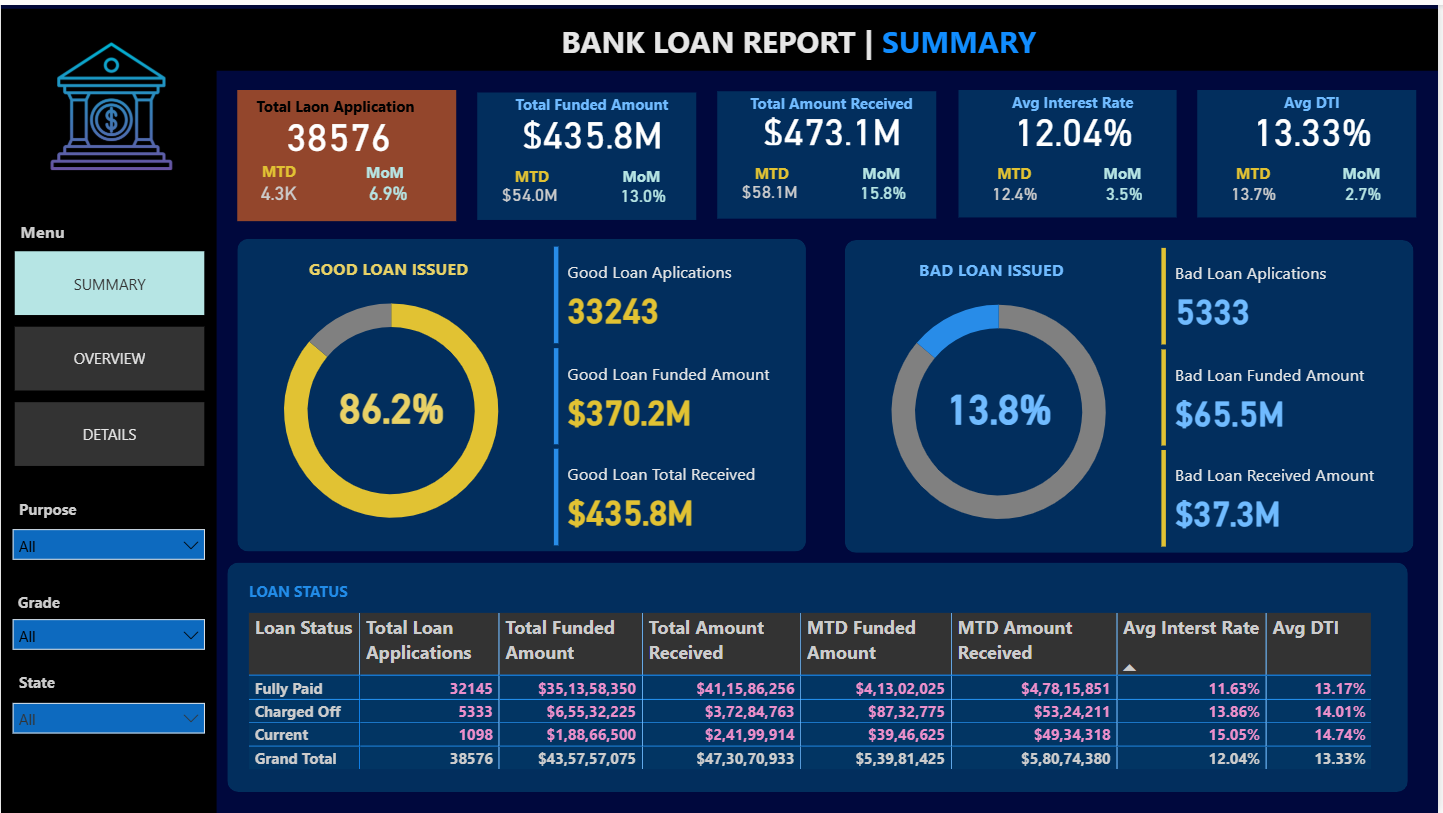

The page's visual inventory and layout, read from the dashboard file:
{"tool":"powerbi","page":{"name":"SUMMARY","canvas":[1280,720],"ordinal":0},"visuals":[{"type":"group","id":"g1","title":"Group 3","box":[423.6,75.1,195.4,117],"z":0,"group":"g14"},{"type":"shape","box":[210.1,76.3,195,117],"z":0,"group":"g16"},{"type":"shape","box":[851.9,76.3,194.2,113.5],"z":0,"group":"g8"},{"type":"shape","box":[1065.5,76.3,195,113.5],"z":0,"group":"g15"},{"type":"shape","box":[637.2,77.4,195,113.5],"z":0,"group":"g2"},{"type":"shape","box":[423.6,78.7,195,113.5],"z":0,"group":"g1"},{"type":"card","fields":{"Values":["Measure.MTD For Amount"]},"box":[653.2,150.6,62.7,34.4],"z":0,"group":"g4"},{"type":"card","fields":{"Values":["Measure.MTD For Int Rate"]},"box":[870.3,151.4,62.7,35.1],"z":0,"group":"g5"},{"type":"card","fields":{"Values":["Measure.MTD For DTI"]},"box":[1084.4,151.4,63,35.1],"z":0,"group":"g6"},{"type":"card","fields":{"Values":["bank_loan_db bank_loan.MTD For Applications"]},"box":[220,151.8,54.3,33.8],"z":0,"group":"g3"},{"type":"card","fields":{"Values":["Measure.MTD For Fund"]},"box":[439.7,153.4,63,35.1],"z":0,"group":"g7"},{"type":"card","fields":{"Values":["Measure.MoM For Application"]},"box":[317.6,154.2,53.1,29],"z":0,"group":"g9"},{"type":"card","fields":{"Values":["Measure.MoM For Amount"]},"box":[758.6,154.7,53.1,27.5],"z":0,"group":"g10"},{"type":"card","fields":{"Values":["Measure.MoM For Int Rate"]},"box":[973.3,155.1,53.1,28.1],"z":0,"group":"g11"},{"type":"card","fields":{"Values":["Measure.MoM For DTI"]},"box":[1187.4,155.1,53.3,28.1],"z":0,"group":"g12"},{"type":"card","fields":{"Values":["Measure.MoM For Fund"]},"box":[545.4,157.5,53.3,28.1],"z":0,"group":"g13"},{"type":"shape","box":[209.9,208.7,506.7,278.7],"z":0,"group":"g17"},{"type":"shape","box":[751.3,209.5,506.7,278.7],"z":0,"group":"g18"},{"type":"shape","box":[201.9,497,1051.6,204.4],"z":0},{"type":"shape","box":[0,3.6,1280,55.5],"z":1000},{"type":"group","id":"g2","title":"Group 3","box":[637.2,73.9,195.4,117],"z":1000,"group":"g14"},{"type":"group","id":"g3","title":"Group 1","box":[220,134.2,54.3,51.4],"z":1000,"group":"g16"},{"type":"textbox","box":[220,134.2,54.3,30.2],"z":1000,"group":"g3"},{"type":"textbox","box":[310.4,135.4,62.7,37.4],"z":1000,"group":"g9"},{"type":"textbox","box":[751.7,135.8,62.7,35.5],"z":1000,"group":"g10"},{"type":"textbox","box":[966.4,135.8,62.7,36.3],"z":1000,"group":"g11"},{"type":"textbox","box":[1180.5,135.8,63,36.3],"z":1000,"group":"g12"},{"type":"group","id":"g4","title":"Group 1","box":[653.2,136.1,64.3,48.9],"z":1000,"group":"g2"},{"type":"textbox","box":[656,136.1,61.5,28.7],"z":1000,"group":"g4"},{"type":"group","id":"g5","title":"Group 1","box":[870.3,136.2,62.7,50.3],"z":1000,"group":"g8"},{"type":"textbox","box":[870.6,136.2,61.5,29.2],"z":1000,"group":"g5"},{"type":"group","id":"g6","title":"Group 1","box":[1084.4,136.2,63,50.3],"z":1000,"group":"g15"},{"type":"textbox","box":[1084.4,136.2,61.8,29.2],"z":1000,"group":"g6"},{"type":"textbox","box":[538.5,138.2,63,36.3],"z":1000,"group":"g13"},{"type":"group","id":"g7","title":"Group 1","box":[439.7,138.6,64.5,49.9],"z":1000,"group":"g1"},{"type":"textbox","box":[442.5,138.6,61.8,29.2],"z":1000,"group":"g7"},{"type":"donutChart","fields":{"Y":["Measure.Good Loan Application %","Measure.Bad Loan Application %"]},"box":[215.9,231.6,263,248.5],"z":1000,"group":"g17"},{"type":"donutChart","fields":{"Y":["Measure.Good Loan Application %","Measure.Bad Loan Application %"]},"box":[757.3,232.4,263,248.5],"z":1000,"group":"g18"},{"type":"shape","box":[0,54.9,192,665.5],"z":2000},{"type":"group","id":"g8","title":"Group 3","box":[851.9,72.7,194.2,117],"z":2000,"group":"g14"},{"type":"group","id":"g9","title":"Group 2","box":[310.4,135.4,62.7,47.8],"z":2000,"group":"g16"},{"type":"group","id":"g10","title":"Group 2","box":[751.7,135.8,62.7,46.4],"z":2000,"group":"g2"},{"type":"group","id":"g11","title":"Group 2","box":[966.4,135.8,62.7,47.4],"z":2000,"group":"g8"},{"type":"group","id":"g12","title":"Group 2","box":[1180.5,135.8,63,47.4],"z":2000,"group":"g15"},{"type":"group","id":"g13","title":"Group 2","box":[538.5,138.2,63,47.4],"z":2000,"group":"g1"},{"type":"cardVisual","fields":{"Data":["Measure.Good Loan Aplications","Measure.Good Loan Funded Amount","Measure.Good Loan Received Amount"]},"box":[487.4,211.1,230.4,278.7],"z":2000,"group":"g17"},{"type":"cardVisual","fields":{"Data":["Measure.Bad Loan Aplications","Measure.Bad Loan Funded Amount","Measure.Bad Loan Received Amount"]},"box":[1028.8,211.9,230.4,278.7],"z":2000,"group":"g18"},{"type":"group","id":"g14","title":"Group 5","box":[210.1,72.7,1050.8,120.6],"z":3000},{"type":"textbox","box":[868.6,72.7,170.1,29.2],"z":3000,"group":"g8"},{"type":"group","id":"g15","title":"Group 3","box":[1065.5,72.7,195.4,117],"z":3000,"group":"g14"},{"type":"textbox","box":[1082.3,72.7,170.8,29.2],"z":3000,"group":"g15"},{"type":"textbox","box":[653.9,73.9,170.1,28.7],"z":3000,"group":"g2"},{"type":"textbox","box":[440.3,75.1,170.8,29.2],"z":3000,"group":"g1"},{"type":"textbox","box":[217.3,76.5,159.3,27.7],"z":3000,"group":"g16"},{"type":"textbox","box":[269,219.6,164.1,31.4],"z":3000,"group":"g17"},{"type":"textbox","box":[812.3,220.3,158.4,31.9],"z":3000,"group":"g18"},{"type":"group","id":"g16","title":"Group 4","box":[210.1,76.3,195,117],"z":4000,"group":"g14"},{"type":"card","fields":{"Values":["Measure.Avg Interst Rate"]},"box":[883.3,91.4,142.4,39.8],"z":4000,"group":"g8"},{"type":"card","fields":{"Values":["Measure.Avg DTI"]},"box":[1097,91.4,142.9,39.8],"z":4000,"group":"g15"},{"type":"card","fields":{"Values":["Measure.Total Amount Received"]},"box":[668.6,92.2,142.4,39],"z":4000,"group":"g2"},{"type":"card","fields":{"Values":["Measure.Total Funded Amount"]},"box":[455.1,93.8,142.9,39.8],"z":4000,"group":"g1"},{"type":"card","fields":{"Values":["bank_loan_db bank_loan.Total Loan Application"]},"box":[240.1,95.3,120.6,42.2],"z":4000,"group":"g16"},{"type":"group","id":"g17","title":"Group 6","box":[209.9,208.7,507.9,281.1],"z":4000},{"type":"card","fields":{"Values":["Measure.Good Loan Application %"]},"box":[286.2,316.9,121.4,80.5],"z":4000,"group":"g17"},{"type":"card","fields":{"Values":["Measure.Bad Loan Application %"]},"box":[827.6,317.7,121.4,80.5],"z":4000,"group":"g18"},{"type":"group","id":"g18","title":"Group 6","box":[751.3,209.5,507.9,281.1],"z":5000},{"type":"pivotTable","fields":{"Rows":["bank_loan.loan_status"],"Values":["Measure.Total Loan Application","Measure.Total Funded Amount","Measure.Total Amount Received","Measure.MTD For Fund","Measure.MTD For Amount","Measure.Avg Interst Rate","Measure.Avg DTI"]},"box":[215.9,536.6,1015.8,149.5],"z":6000},{"type":"textbox","box":[215.9,507.2,108.6,29.4],"z":7000},{"type":"slicer","fields":{"Values":["bank_loan.purpose"]},"box":[0,456.1,191.7,48.6],"z":8000},{"type":"slicer","fields":{"Values":["bank_loan.grade"]},"box":[0,536.6,191.7,48.6],"z":9000},{"type":"slicer","fields":{"Values":["bank_loan.address_state"]},"box":[0,610.7,191.7,48.6],"z":10000},{"type":"textbox","box":[11.4,435.5,71.6,37.1],"z":11000},{"type":"textbox","box":[10.2,517.5,72.8,29.4],"z":12000},{"type":"textbox","box":[11.5,588.5,58.8,35.8],"z":13000},{"type":"textbox","box":[470.5,8.4,479,45.8],"z":14000},{"type":"pageNavigator","box":[12.1,219.6,169,193],"z":15000},{"type":"image","box":[36.2,27.7,123.1,125.5],"z":16000},{"type":"textbox","box":[12.1,187,72.4,30.2],"z":17000}]}

Visuals, with their boxes in screenshot pixels (x1, y1, x2, y2), scaled from the page's 1280x720 canvas onto the 1443x813 screenshot:
"Group 3" group: 478 85 698 217
shape: 237 86 457 218
shape: 960 86 1179 214
shape: 1201 86 1421 214
shape: 718 87 938 216
shape: 478 89 697 217
card - Measure.MTD For Amount: 736 170 807 209
card - Measure.MTD For Int Rate: 981 171 1052 211
card - Measure.MTD For DTI: 1222 171 1294 211
card - bank_loan_db bank_loan.MTD For Applications: 248 171 309 210
card - Measure.MTD For Fund: 496 173 567 213
card - Measure.MoM For Application: 358 174 418 207
card - Measure.MoM For Amount: 855 175 915 206
card - Measure.MoM For Int Rate: 1097 175 1157 207
card - Measure.MoM For DTI: 1339 175 1399 207
card - Measure.MoM For Fund: 615 178 675 210
shape: 237 236 808 550
shape: 847 237 1418 551
shape: 228 561 1413 792
shape: 0 4 1442 67
"Group 3" group: 718 83 939 216
"Group 1" group: 248 152 309 210
textbox: 248 152 309 186
textbox: 350 153 421 195
textbox: 847 153 918 193
textbox: 1089 153 1160 194
textbox: 1331 153 1402 194
"Group 1" group: 736 154 809 209
textbox: 740 154 809 186
"Group 1" group: 981 154 1052 211
textbox: 981 154 1051 187
"Group 1" group: 1222 154 1294 211
textbox: 1222 154 1292 187
textbox: 607 156 678 197
"Group 1" group: 496 157 568 213
textbox: 499 157 569 189
donutChart - Measure.Good Loan Application % x Measure.Bad Loan Application %: 243 262 540 542
donutChart - Measure.Good Loan Application % x Measure.Bad Loan Application %: 854 262 1150 543
shape: 0 62 216 812
"Group 3" group: 960 82 1179 214
"Group 2" group: 350 153 421 207
"Group 2" group: 847 153 918 206
"Group 2" group: 1089 153 1160 207
"Group 2" group: 1331 153 1402 207
"Group 2" group: 607 156 678 210
cardVisual - Measure.Good Loan Aplications x Measure.Good Loan Funded Amount: 549 238 809 553
cardVisual - Measure.Bad Loan Aplications x Measure.Bad Loan Funded Amount: 1160 239 1420 554
"Group 5" group: 237 82 1421 218
textbox: 979 82 1171 115
"Group 3" group: 1201 82 1421 214
textbox: 1220 82 1413 115
textbox: 737 83 929 116
textbox: 496 85 689 118
textbox: 245 86 425 118
textbox: 303 248 488 283
textbox: 916 249 1094 285
"Group 4" group: 237 86 457 218
card - Measure.Avg Interst Rate: 996 103 1156 148
card - Measure.Avg DTI: 1237 103 1398 148
card - Measure.Total Amount Received: 754 104 914 148
card - Measure.Total Funded Amount: 513 106 674 151
card - bank_loan_db bank_loan.Total Loan Application: 271 108 407 155
"Group 6" group: 237 236 809 553
card - Measure.Good Loan Application %: 323 358 460 449
card - Measure.Bad Loan Application %: 933 359 1070 450
"Group 6" group: 847 237 1420 554
pivotTable - bank_loan.loan_status x Measure.Total Loan Application: 243 606 1389 775
textbox: 243 573 366 606
slicer - bank_loan.purpose: 0 515 216 570
slicer - bank_loan.grade: 0 606 216 661
slicer - bank_loan.address_state: 0 690 216 744
textbox: 13 492 94 534
textbox: 11 584 94 618
textbox: 13 665 79 705
textbox: 530 9 1070 61
pageNavigator: 14 248 204 466
image: 41 31 180 173
textbox: 14 211 95 245
